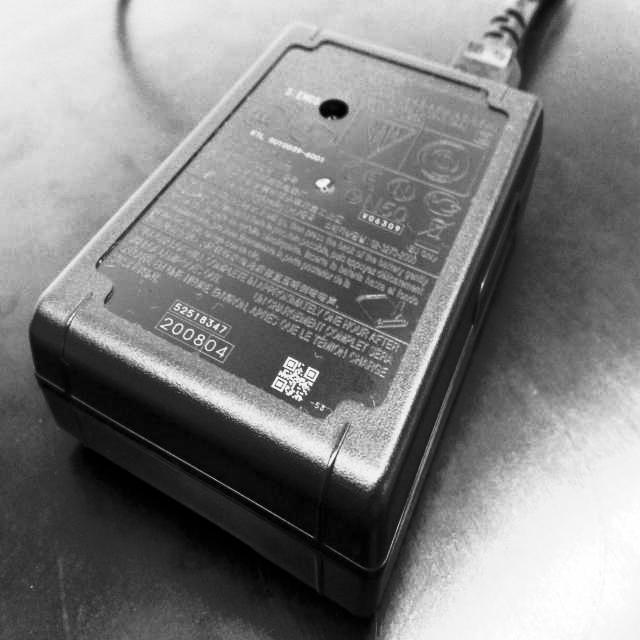qr_code: (271, 357, 320, 404)
